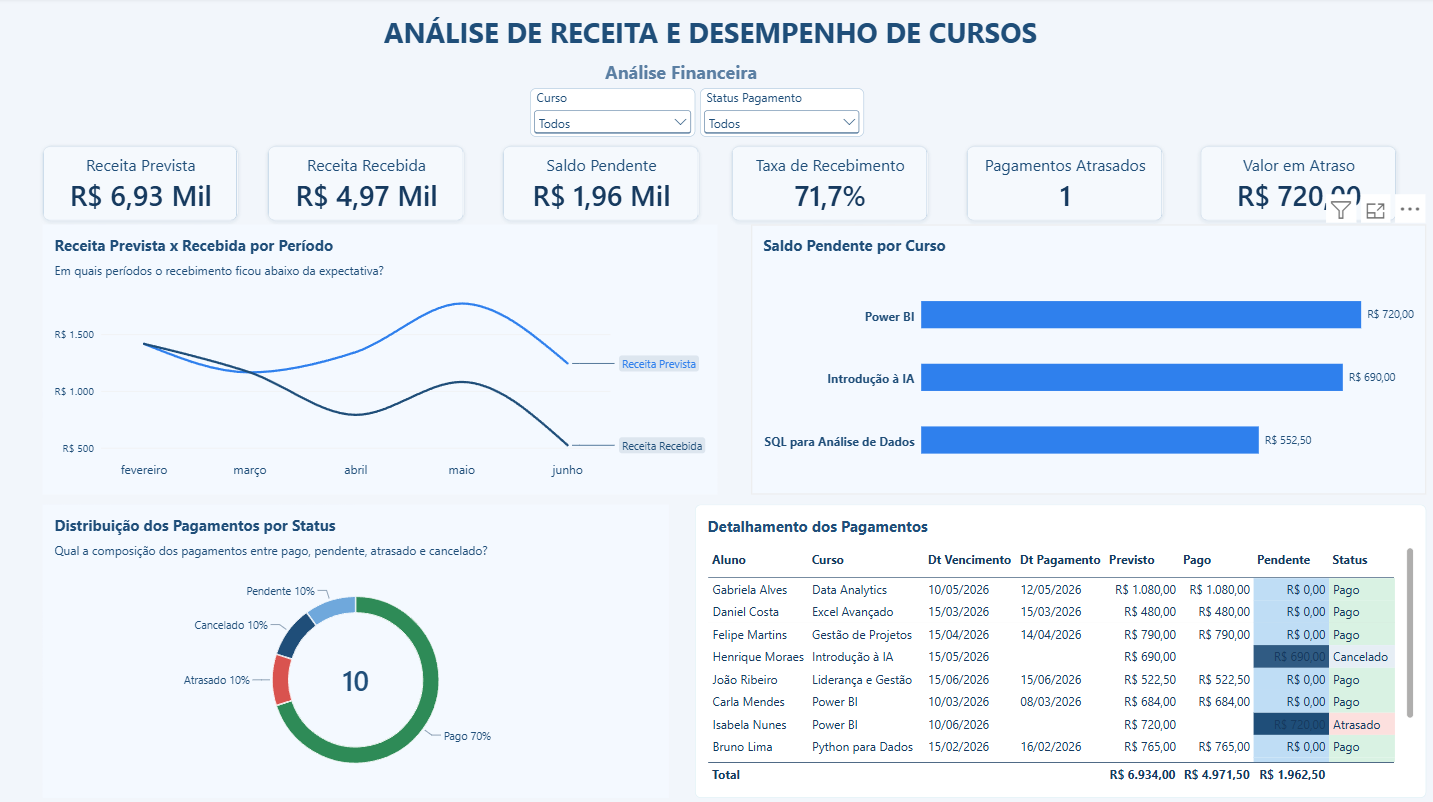

This screenshot's page, from the dashboard's own definition file:
{"tool":"powerbi","page":{"name":"Financeiro","canvas":[1920,1080],"ordinal":2},"visuals":[{"type":"textbox","box":[512.1,0,894,83.2],"z":0},{"type":"textbox","box":[808.9,83.2,300.4,45.2],"z":1000},{"type":"slicer","fields":{"Values":["vw_resumo_cursos.nome_curso"]},"box":[708.3,121.7,220.8,65.1],"z":2000},{"type":"slicer","fields":{"Values":["vw_financeiro.status_pagamento"]},"box":[934.5,121.6,219,65.1],"z":3000},{"type":"cardVisual","fields":{"Data":["vw_financeiro.Receita Prevista"]},"box":[57,198.7,261.2,101.2],"z":4000},{"type":"cardVisual","fields":{"Data":["vw_financeiro.Receita Recebida"]},"box":[356.9,198.7,263,101.2],"z":5000},{"type":"cardVisual","fields":{"Data":["vw_financeiro.Saldo Pendente"]},"box":[671.4,198.7,263,101.2],"z":6000},{"type":"cardVisual","fields":{"Data":["vw_financeiro.Taxa de Recebimento"]},"box":[976.7,198.7,263,101.2],"z":7000},{"type":"cardVisual","fields":{"Data":["vw_financeiro.Pagamentos Atrasados"]},"box":[1291.3,198.7,263,101.2],"z":8000},{"type":"cardVisual","fields":{"Data":["vw_financeiro.Valor em Atraso"]},"box":[1602.2,198.7,263,101.2],"z":9000},{"type":"lineChart","title":"Receita Prevista x Recebida por Período","fields":{"Category":["vw_financeiro.data_vencimento.Variation.Hierarquia de datas.Mês"],"Y":["vw_financeiro.Receita Prevista","vw_financeiro.Receita Recebida"]},"box":[57,303.5,901.3,360.5],"z":10000},{"type":"clusteredBarChart","title":"Saldo Pendente por Curso","fields":{"Category":["vw_financeiro.nome_curso"],"Y":["vw_financeiro.Saldo Pendente"]},"box":[1003.5,303.9,901.7,360.7],"z":11000},{"type":"donutChart","title":"Distribuição dos Pagamentos por Status","fields":{"Category":["vw_financeiro.status_pagamento"],"Y":["Count(vw_financeiro.id_pagamento)"]},"box":[56.8,677.9,836.6,392.4],"z":12000},{"type":"tableEx","title":"Detalhamento dos Pagamentos","fields":{"Values":["vw_financeiro.aluno","vw_resumo_cursos.nome_curso","vw_financeiro.data_vencimento","vw_financeiro.data_pagamento","Sum(vw_financeiro.valor_previsto)","Sum(vw_financeiro.valor_pago)","vw_financeiro.Saldo Pendente","vw_financeiro.status_pagamento"]},"box":[928.4,677.9,976.8,392.4],"z":13000}]}

Visuals, with their boxes in screenshot pixels (x1, y1, x2, y2), scaled from the page's 1920x1080 canvas onto the 1433x802 screenshot:
textbox: pyautogui.locateOnScreen(382, 0, 1049, 62)
textbox: pyautogui.locateOnScreen(604, 62, 828, 95)
slicer - vw_resumo_cursos.nome_curso: pyautogui.locateOnScreen(529, 90, 693, 139)
slicer - vw_financeiro.status_pagamento: pyautogui.locateOnScreen(697, 90, 861, 139)
cardVisual - vw_financeiro.Receita Prevista: pyautogui.locateOnScreen(43, 148, 237, 223)
cardVisual - vw_financeiro.Receita Recebida: pyautogui.locateOnScreen(266, 148, 463, 223)
cardVisual - vw_financeiro.Saldo Pendente: pyautogui.locateOnScreen(501, 148, 697, 223)
cardVisual - vw_financeiro.Taxa de Recebimento: pyautogui.locateOnScreen(729, 148, 925, 223)
cardVisual - vw_financeiro.Pagamentos Atrasados: pyautogui.locateOnScreen(964, 148, 1160, 223)
cardVisual - vw_financeiro.Valor em Atraso: pyautogui.locateOnScreen(1196, 148, 1392, 223)
"Receita Prevista x Recebida por Período" lineChart: pyautogui.locateOnScreen(43, 225, 715, 493)
"Saldo Pendente por Curso" clusteredBarChart: pyautogui.locateOnScreen(749, 226, 1422, 494)
"Distribuição dos Pagamentos por Status" donutChart: pyautogui.locateOnScreen(42, 503, 667, 795)
"Detalhamento dos Pagamentos" tableEx: pyautogui.locateOnScreen(693, 503, 1422, 795)
